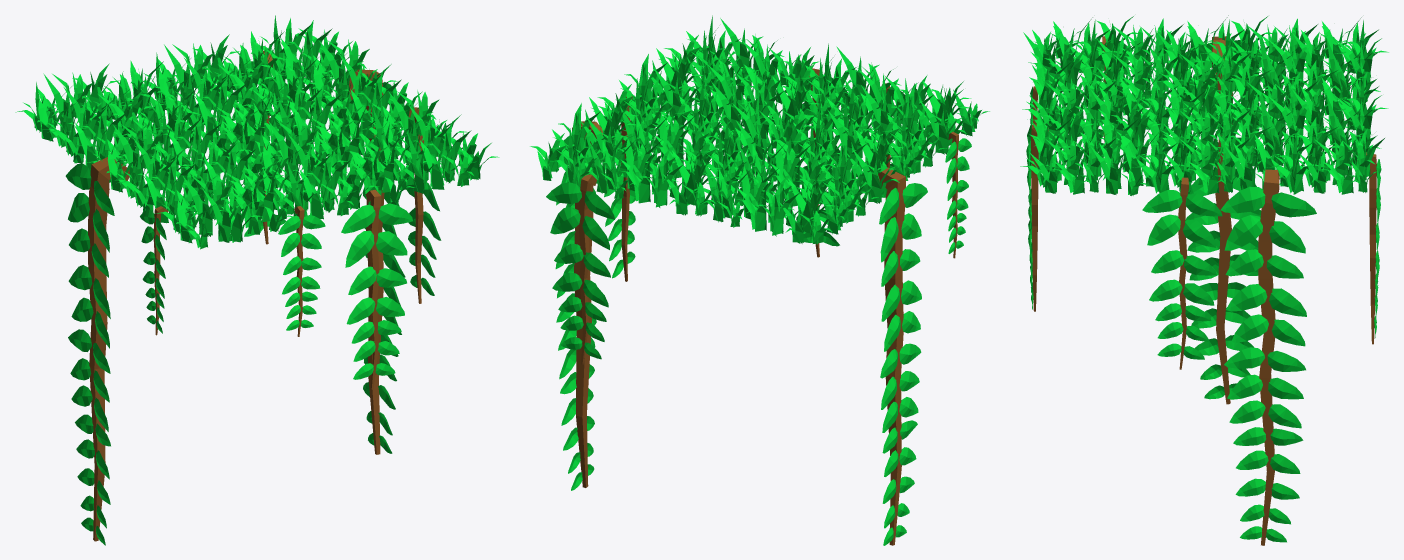
File: pilar_deco.glb
3 views of the same model, side by side, from view 1: azimuth 30°, elevation 25°; view 2: azimuth 150°, elevation 25°; view 3: azimuth 270°, elevation 25° (orthographic). The views are drawn at different scales.
Visible parts, largest first — view 1: Cube.042; view 2: Cube.042; view 3: Cube.042.
Part boxes in pixels (bbox=[...]): Cube.042: bbox=[15, 15, 499, 545]; Cube.042: bbox=[530, 15, 989, 545]; Cube.042: bbox=[1020, 15, 1388, 545].
Size of the model in its own units: 10.69 by 13.08 by 11.02.
